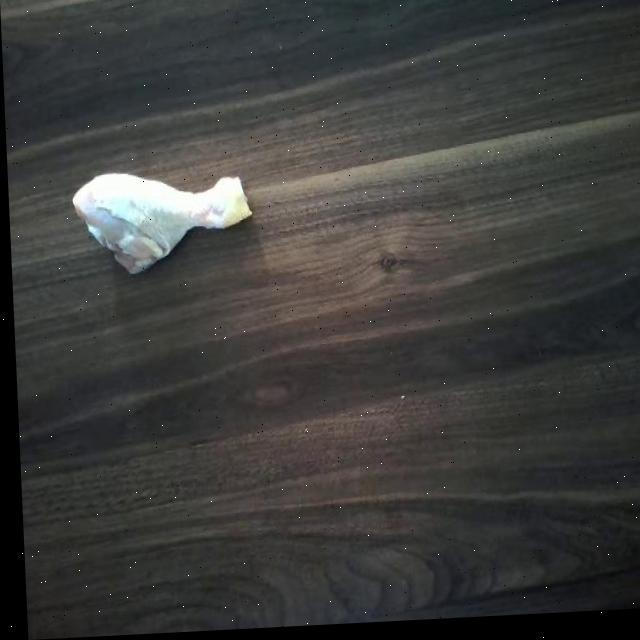leg: (61, 160, 253, 278)
